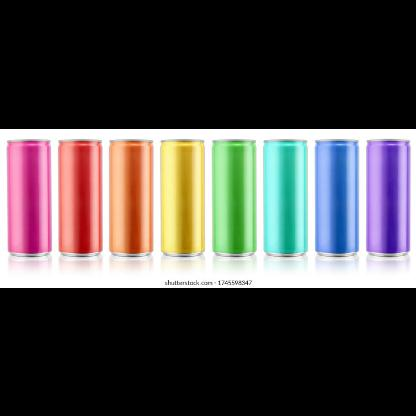Tin_Can: (204, 133, 260, 271), (158, 135, 210, 265), (262, 133, 310, 263), (3, 136, 52, 262), (56, 135, 104, 263), (314, 135, 362, 261), (110, 137, 156, 263), (366, 136, 412, 258)
